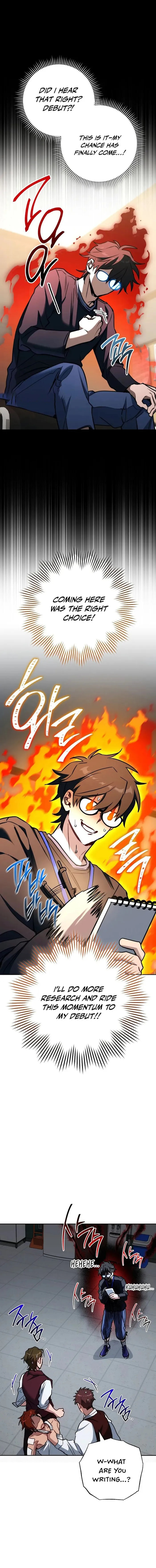bubbles: (4, 933, 151, 1075), (14, 54, 148, 190), (18, 546, 140, 669), (77, 1430, 144, 1503)
